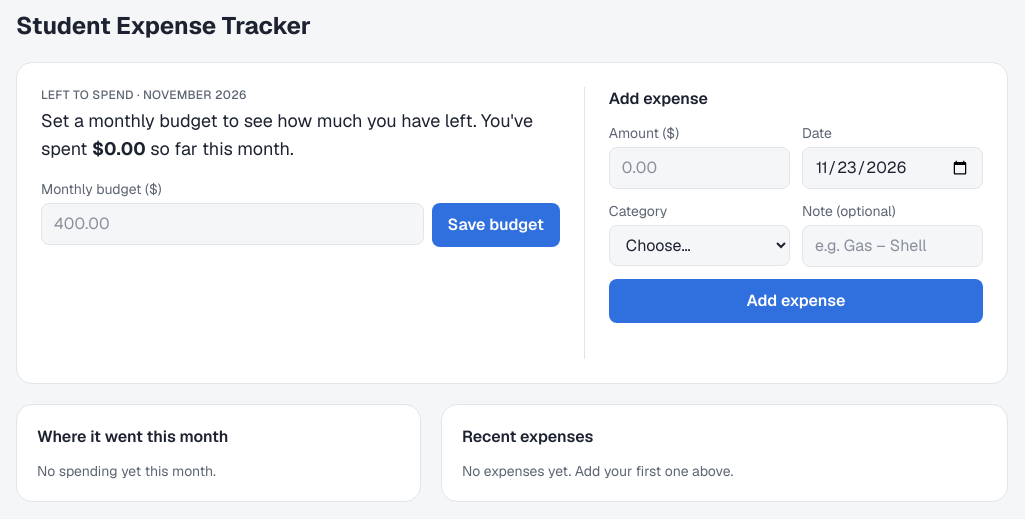
Test: S2: monthly budget › lets the student set and change the budget
Later steps or results of the test are not shown.
Step 1. Type "400" into the field labelled "Monthly budget ($)" → point(232, 224), box [41,203,424,245]
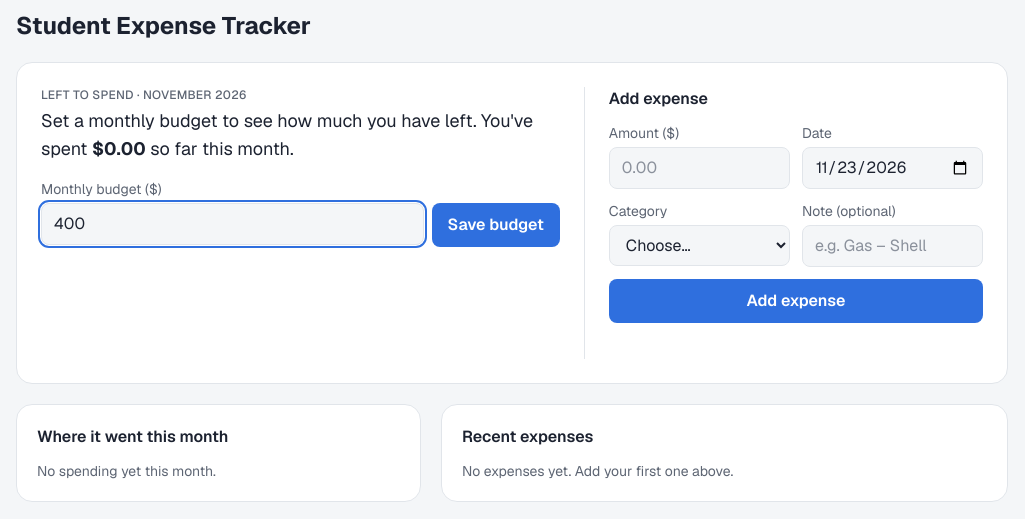
Step 2. Click the button "Save budget" → point(496, 225), box [432,203,560,247]
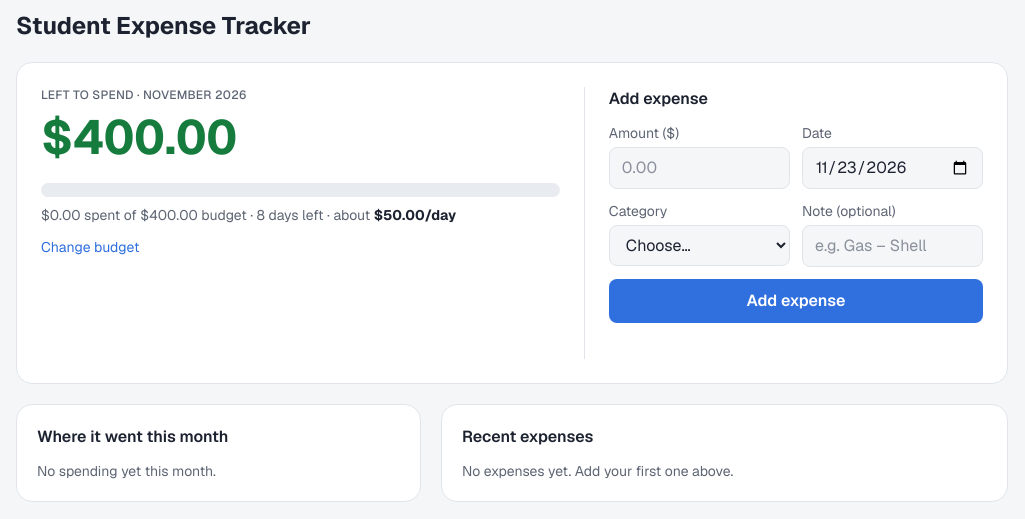
Now the element with test id "budget-summary" shows "$400.00", box [41,106,237,168]
